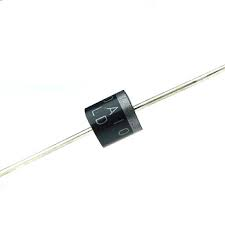diode: (61, 73, 159, 160)
